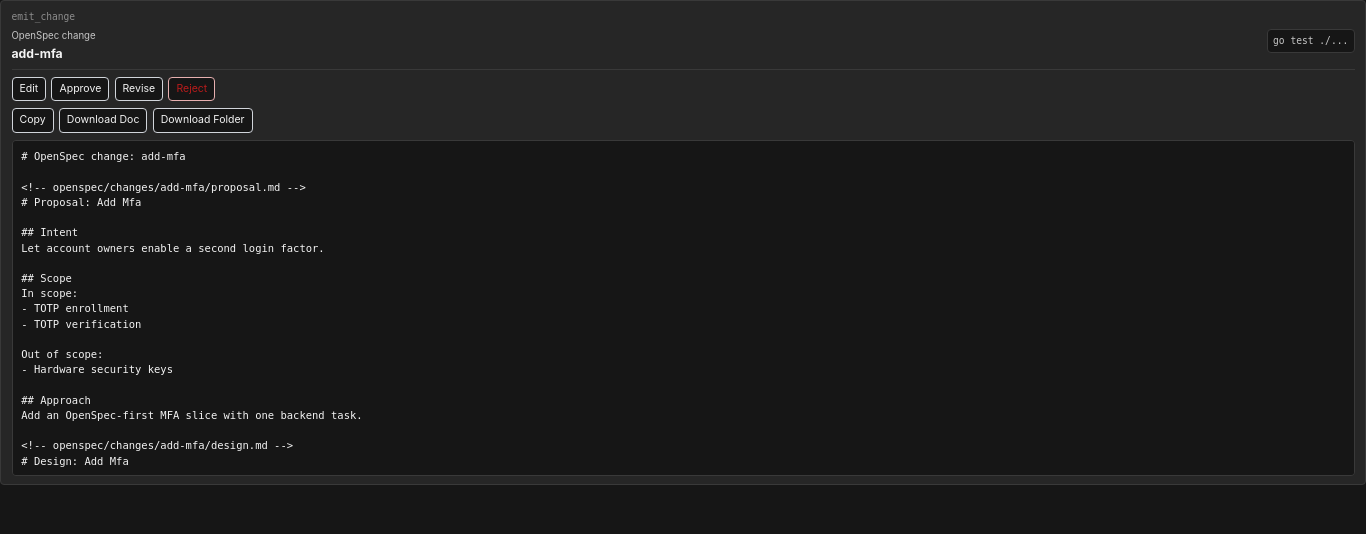
Test case: ArtifactCard › downloads both the rendered document and OpenSpec folder archive
Click the button with test id "openspec-download" at (103, 120), box [59,108,147,132]
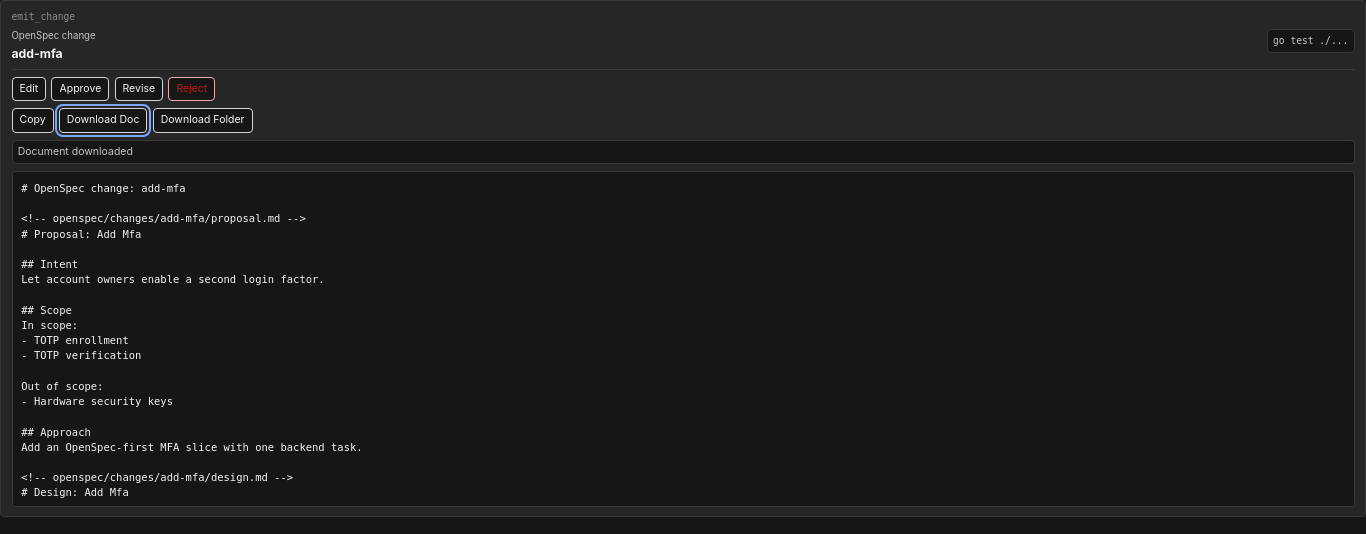
Now the message with test id "openspec-export-state" reads "Document downloaded", box [18,145,133,158]
Click the button with test id "openspec-download-folder" at (203, 120), box [153,108,252,132]
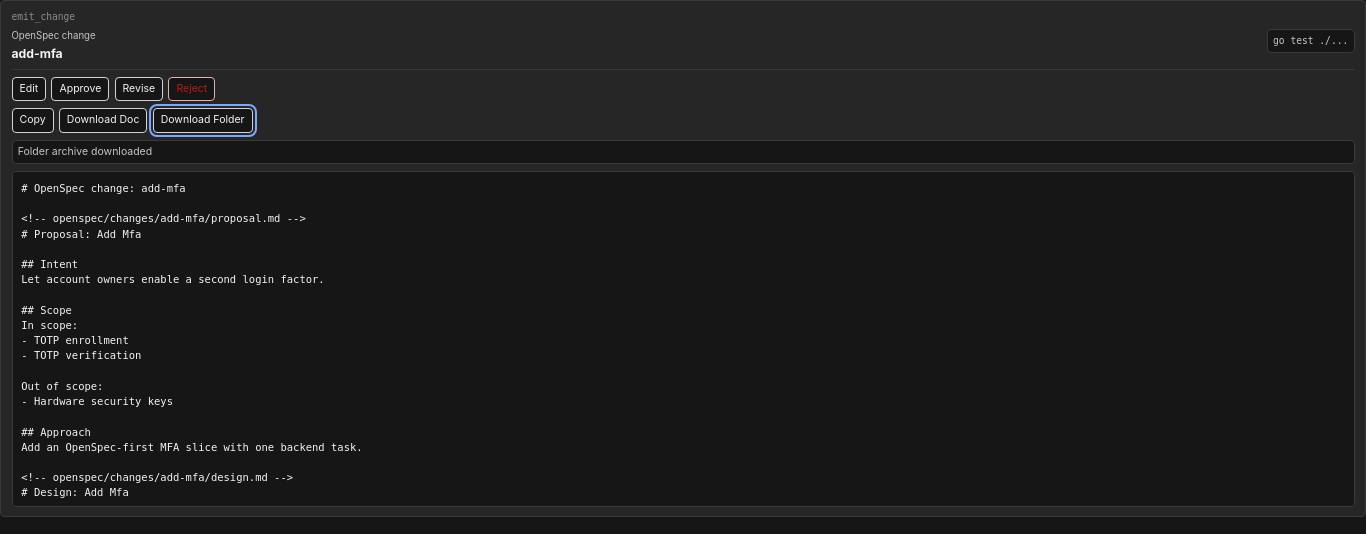
Now the message with test id "openspec-export-state" reads "Folder archive downloaded", box [18,145,152,158]
